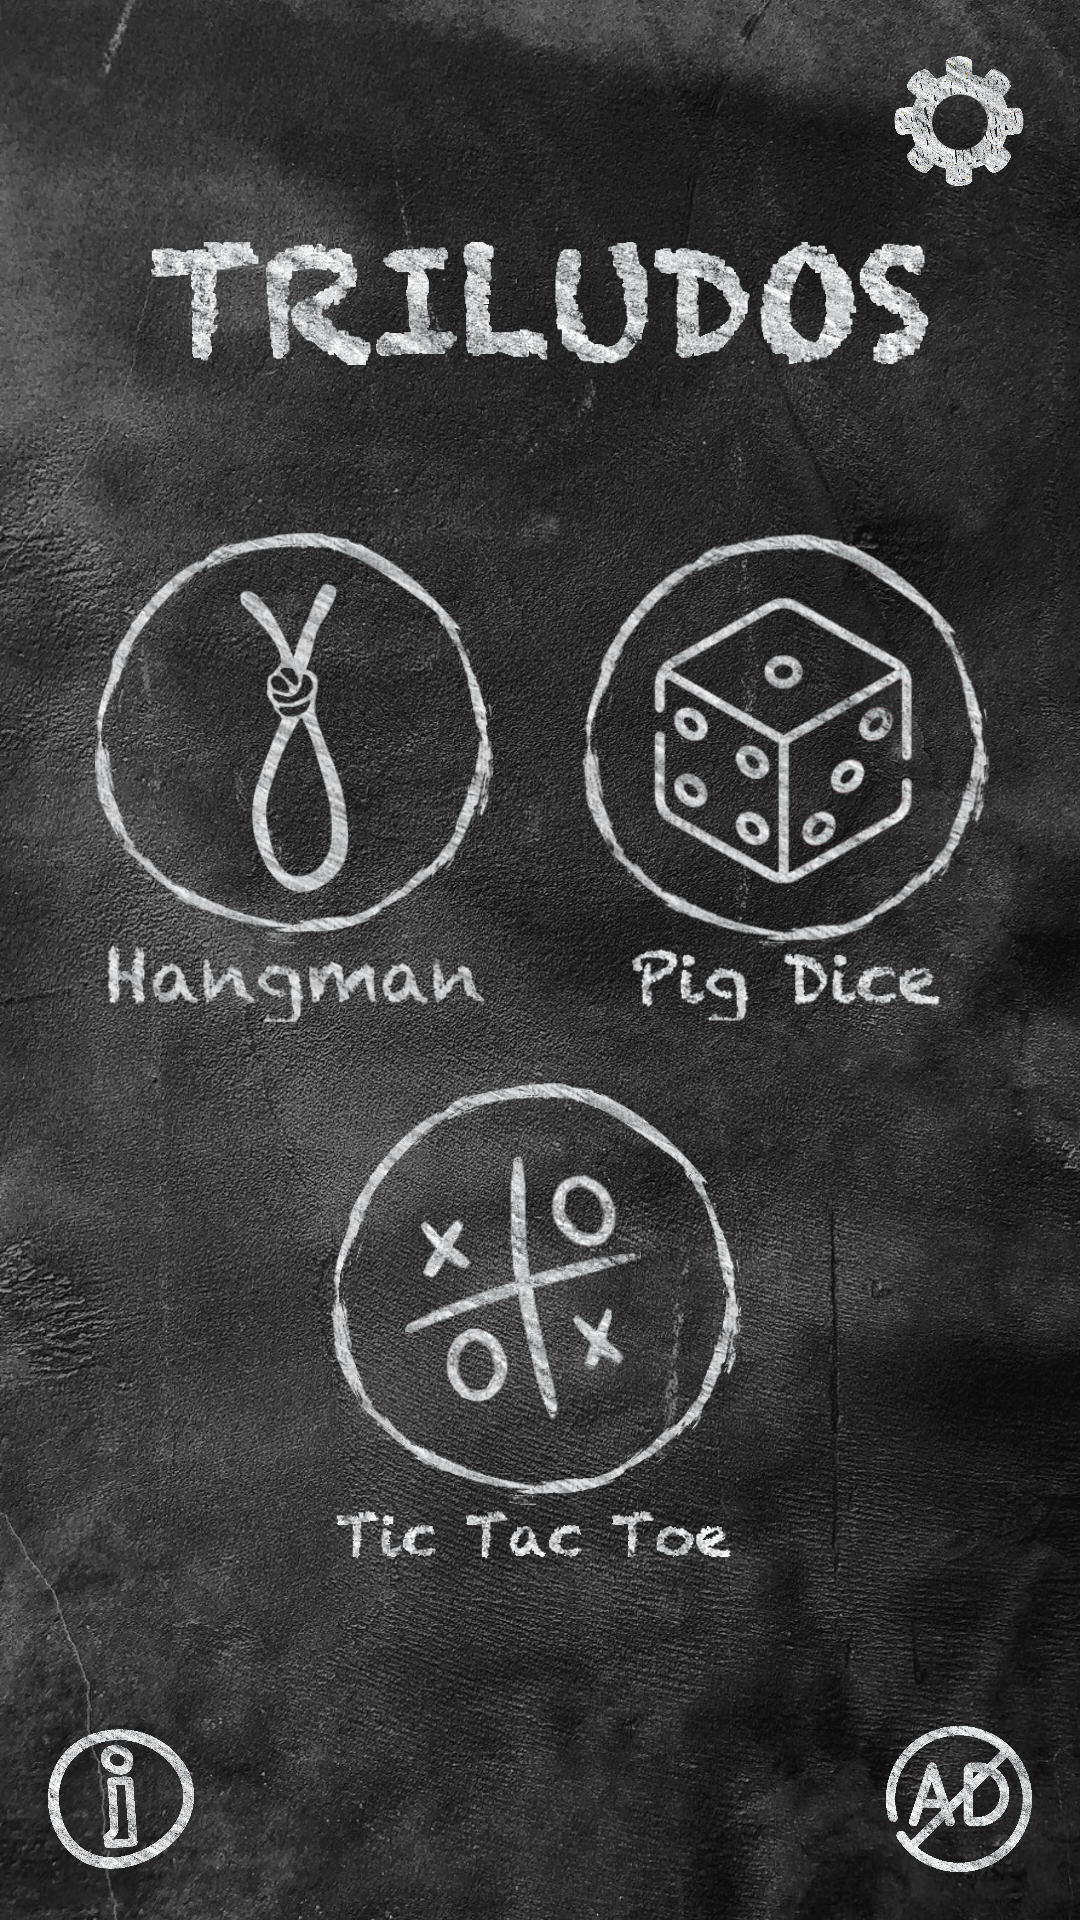

Point at icon controls on the screen. Image size 1080*1920, points as [x,y].
info: [121,1799]
no ads: [959,1799]
settings: [959,121]
